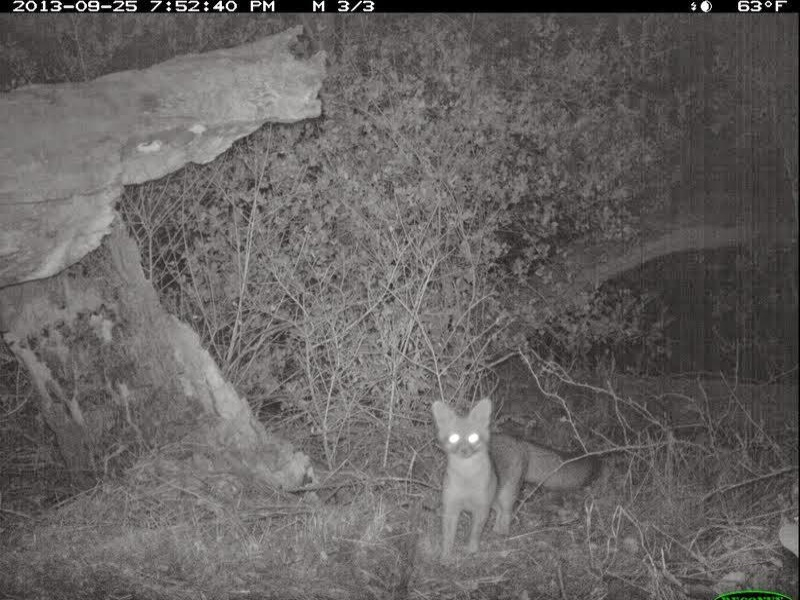fox: (425, 395, 605, 554)
